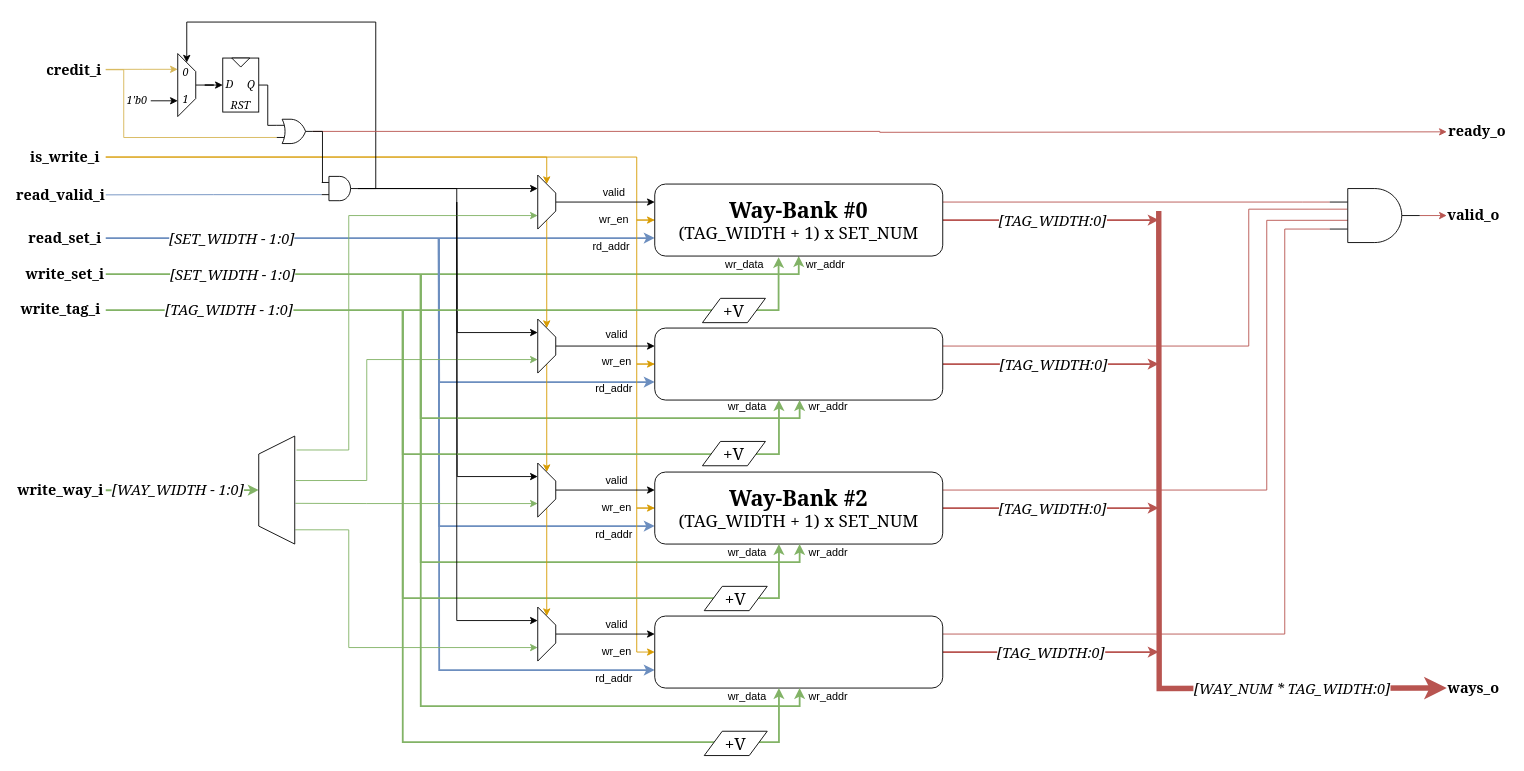
Some shapes in this 1524 by 771 pixel diagram are drawn without their labels. Each missing label, with the box of its shape:
Way-Bank #1 (TAG_WIDTH + 1) x SET_NUM: (654, 327, 943, 400)
Way-Bank #3 (TAG_WIDTH + 1) x SET_NUM: (654, 615, 943, 688)
